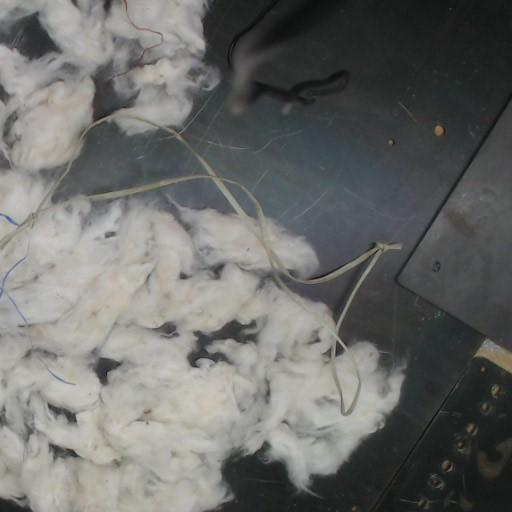conveyor belt: (184, 0, 511, 511), (56, 125, 197, 196)
cotton: (0, 188, 403, 511)
thread: (81, 116, 400, 415), (0, 158, 74, 251), (0, 240, 30, 325)
